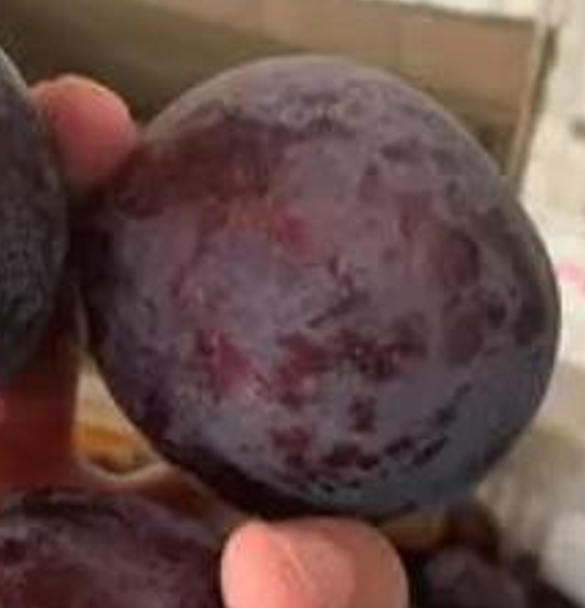plum_A: (84, 52, 561, 525)
